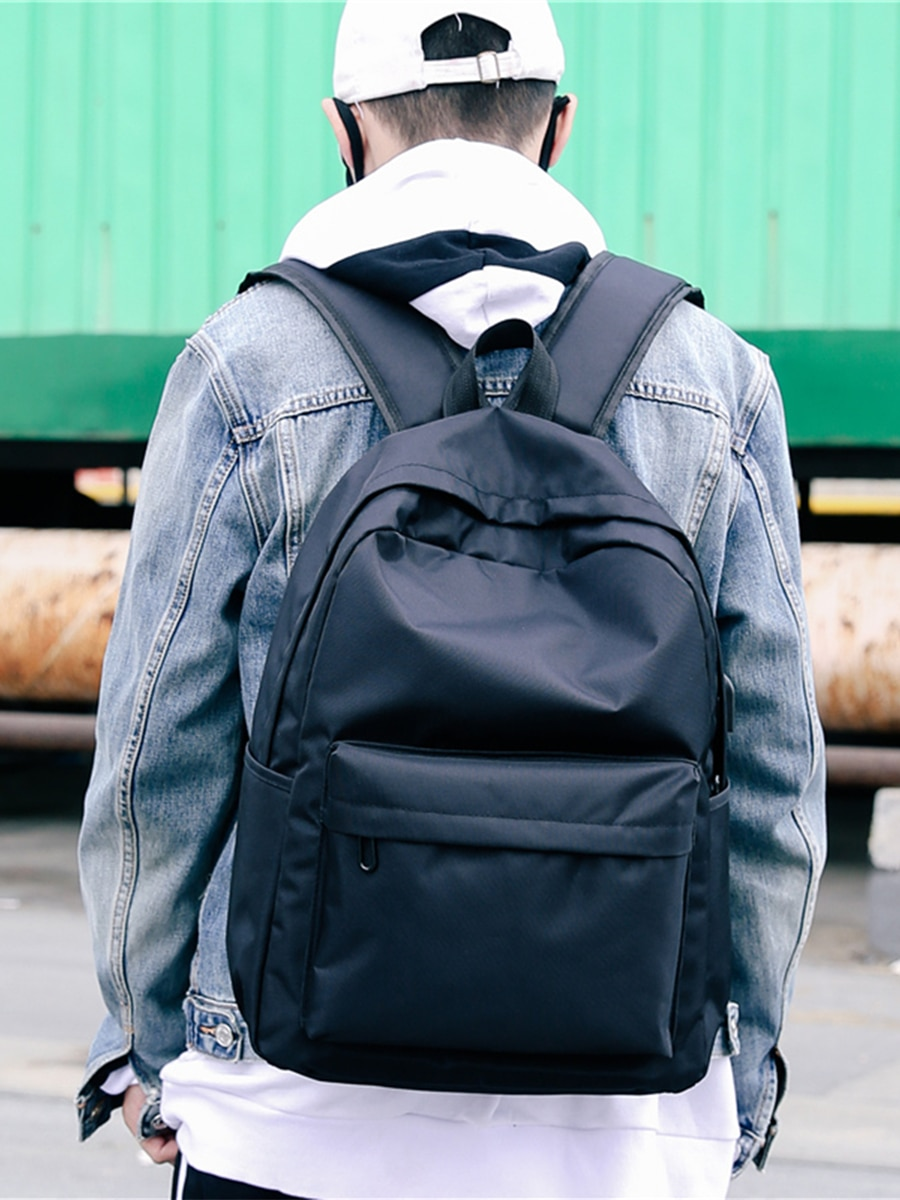Accessories|Hats: (334, 1, 566, 107)
Men's Backpacks: (226, 263, 739, 1097)
Tops: (75, 134, 830, 1188)
